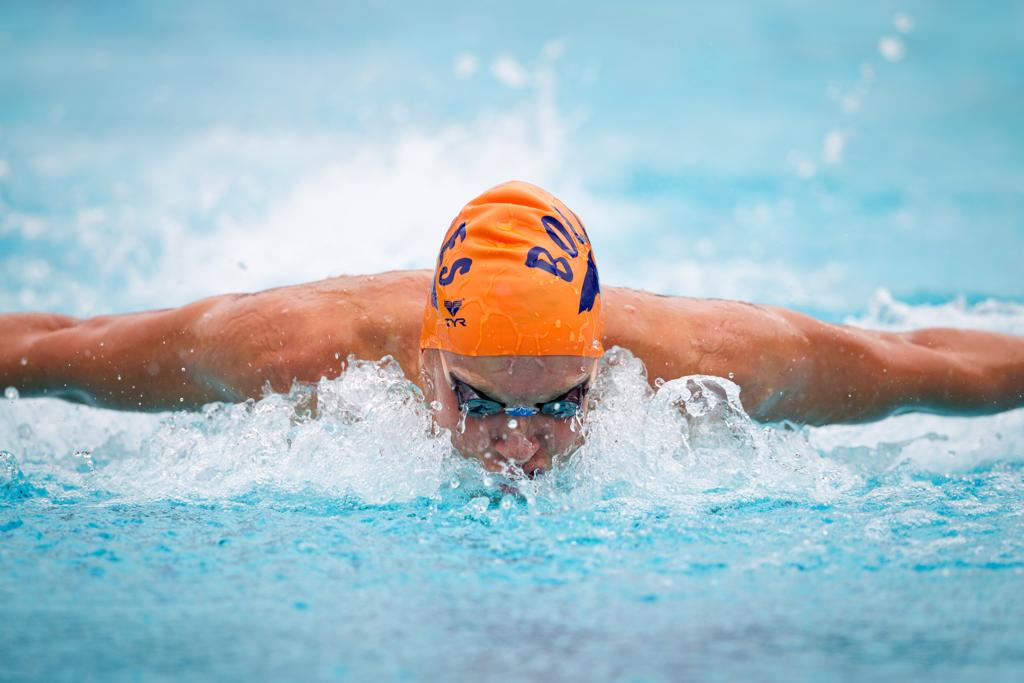face: (444, 346, 576, 496)
